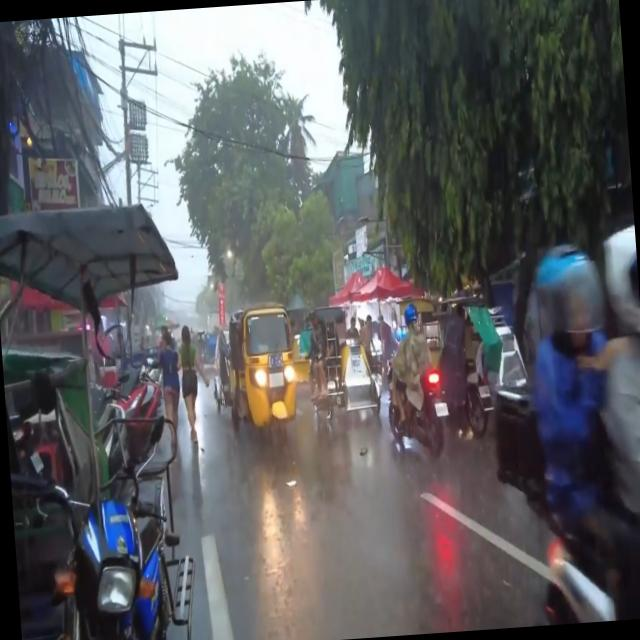full: (403, 302, 418, 326)
half: (530, 240, 607, 354), (600, 221, 640, 342)
